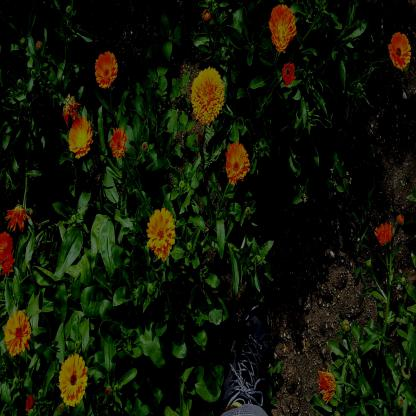marigold: (191, 66, 221, 122), (148, 207, 174, 257), (60, 352, 86, 400), (270, 5, 295, 50), (6, 314, 30, 354), (70, 119, 92, 159), (389, 32, 411, 69), (94, 51, 116, 87), (226, 144, 247, 178), (0, 233, 13, 265), (112, 129, 126, 155)
